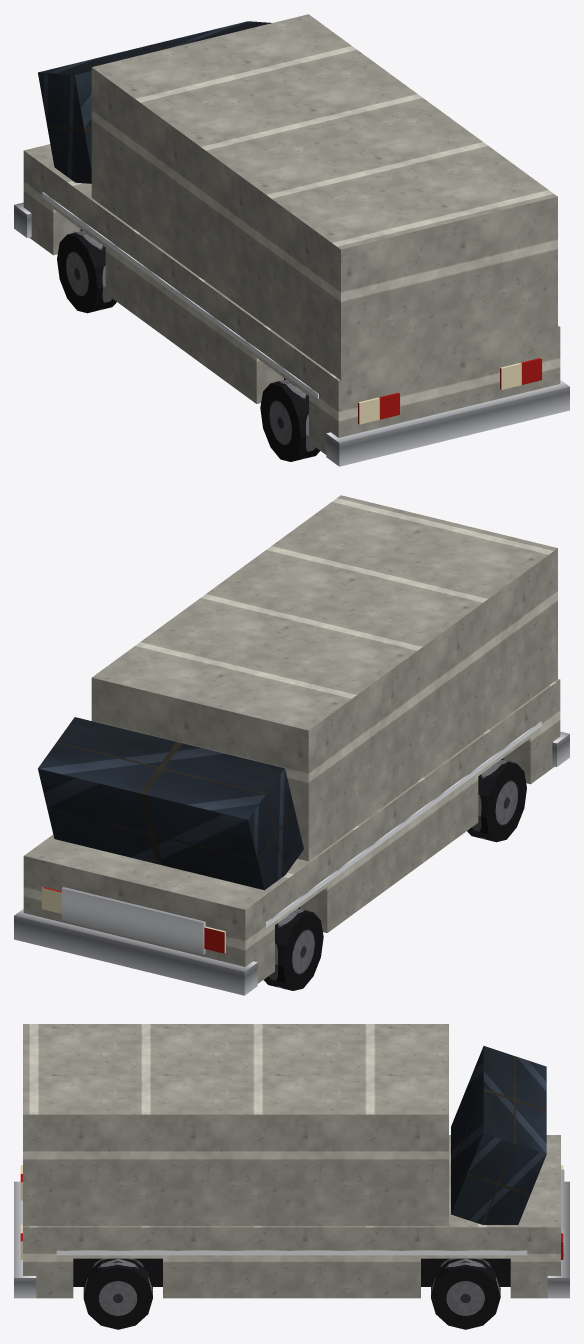
File: Car_VanWhite.fbx
3 renders of one model, top to bottom at view 1: azimuth 30°, elevation 25°; view 2: azimuth 150°, elevation 25°; view 3: azimuth 270°, elevation 25°, orthographic. The views are drawn at different scales.
Parts seen in each view (by area): view 1: Car_VanWhite; view 2: Car_VanWhite; view 3: Car_VanWhite.
Part boxes in pixels (x1,y1,x2,y2): Car_VanWhite: [14, 14, 569, 466]; Car_VanWhite: [14, 495, 569, 995]; Car_VanWhite: [14, 1024, 569, 1329].
Bounding box in the file's own units: 2.03 × 2.1 × 4.96.
